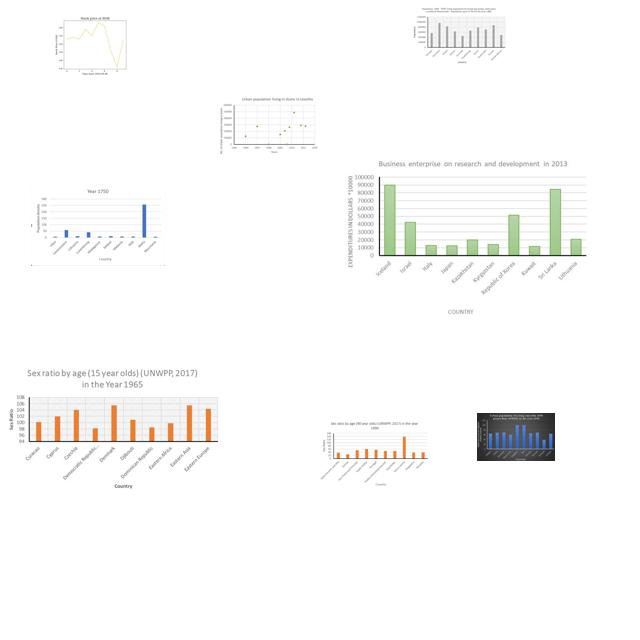Graph: (345, 156, 590, 319), (6, 365, 221, 492), (31, 186, 165, 266), (319, 420, 430, 486), (218, 96, 319, 156), (410, 6, 507, 64), (52, 13, 136, 76), (477, 413, 555, 461)
